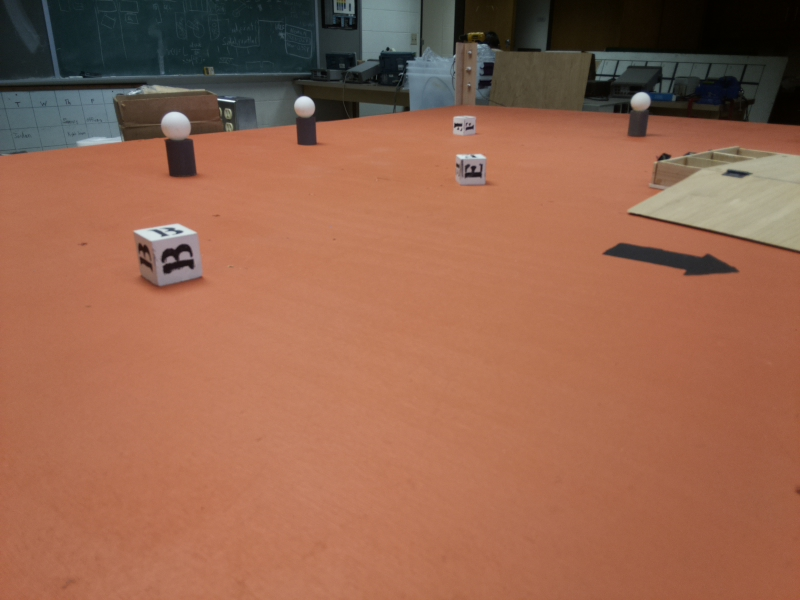blockB: (135, 218, 204, 296)
blockE: (453, 149, 488, 187)
blockF: (453, 113, 477, 139)
corner: (455, 42, 477, 106)
obstacle: (160, 108, 196, 181), (291, 93, 320, 146), (627, 93, 654, 139)
side: (643, 141, 723, 183)
slope: (628, 175, 800, 242)
start: (593, 231, 740, 284)
